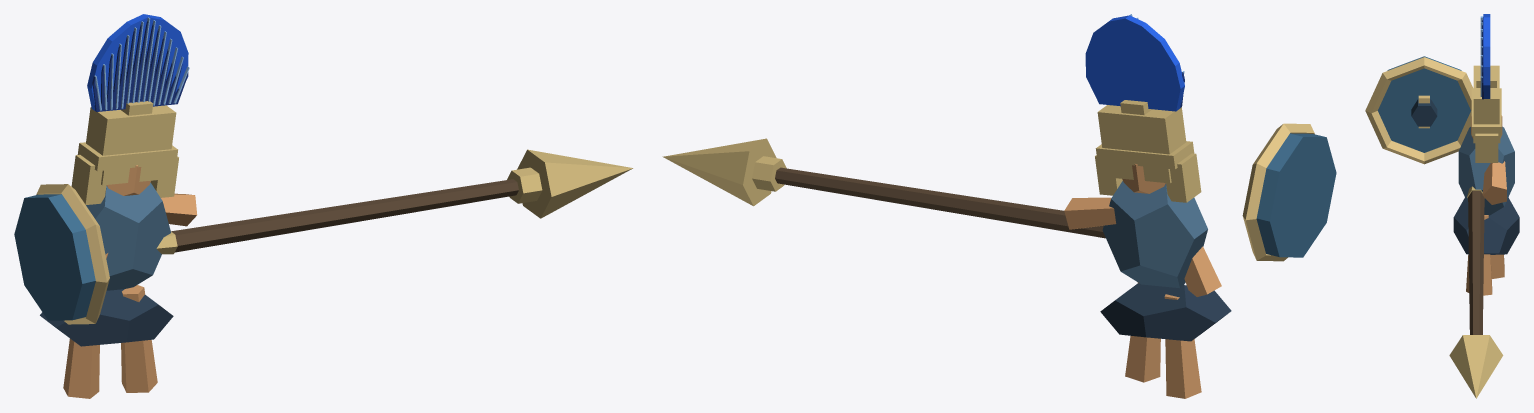
The model's file is romanSoldier_spear_blue.glb.
3 renders of one model, left to right at view 1: azimuth 30°, elevation 25°; view 2: azimuth 150°, elevation 25°; view 3: azimuth 270°, elevation 25°, orthographic. The views are drawn at different scales.
Visible parts, largest first — view 1: soldier-helm, n33, n42, n3, n5, long-spear-head, soldier-crest-feathers, soldier-crest, soldier-crest-stems, n35, n24, n27 (+3 smaller); view 2: soldier-helm, n3, n33, soldier-crest, n42, n5, long-spear-head, n35, n27, n24, n21, n18 (+2 smaller); view 3: n33, n35, soldier-helm, n42, n3, n5, long-spear-head, n21, soldier-crest, shield-boss, n24, n27 (+1 smaller).
Boxes of the visible parts, <box> form: soldier-helm: <box>71,101,178,204</box>; n33: <box>14,194,95,320</box>; n42: <box>171,179,518,252</box>; n3: <box>86,182,170,290</box>; n5: <box>40,289,173,346</box>; long-spear-head: <box>517,149,633,218</box>; soldier-crest-feathers: <box>92,21,188,111</box>; soldier-crest: <box>87,14,188,111</box>; soldier-crest-stems: <box>94,17,189,110</box>; n35: <box>36,184,109,324</box>; n24: <box>121,285,157,392</box>; n27: <box>63,338,99,398</box>; soldier-helm: <box>1095,100,1201,202</box>; n3: <box>1102,181,1207,288</box>; n33: <box>1256,133,1336,257</box>; soldier-crest: <box>1085,15,1184,111</box>; n42: <box>775,167,1105,238</box>; n5: <box>1100,283,1231,341</box>; long-spear-head: <box>662,138,776,206</box>; n35: <box>1242,123,1314,261</box>; n27: <box>1164,294,1201,398</box>; n24: <box>1125,282,1160,382</box>; n21: <box>1064,197,1116,229</box>; n18: <box>1184,246,1221,296</box>; n33: <box>1377,56,1470,152</box>; n35: <box>1365,57,1472,164</box>; soldier-helm: <box>1471,65,1501,162</box>; n42: <box>1468,191,1484,334</box>; n3: <box>1458,126,1514,215</box>; n5: <box>1453,197,1519,254</box>; long-spear-head: <box>1449,335,1503,398</box>; n21: <box>1482,161,1506,204</box>; soldier-crest: <box>1483,14,1490,98</box>; shield-boss: <box>1411,99,1437,126</box>; n24: <box>1466,215,1492,295</box>; n27: <box>1490,254,1504,278</box>.
Bounding box in the file's own units: 2.1 × 1.19 × 0.595.
